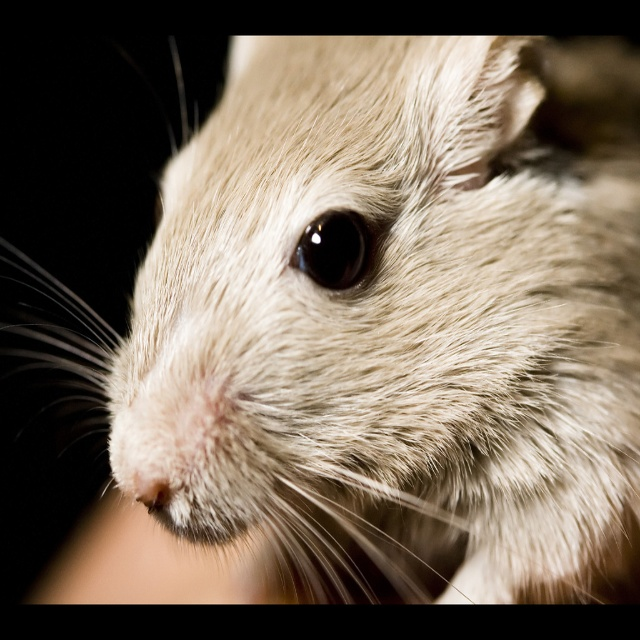Mouse: (0, 35, 640, 604)
